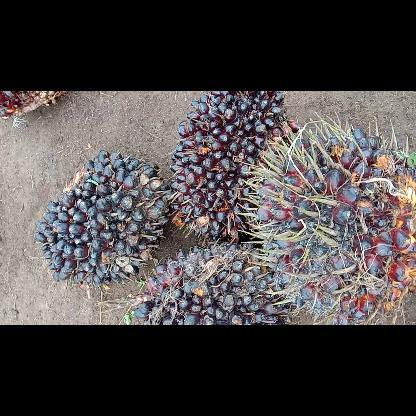TBS mentah: (249, 119, 416, 324), (32, 148, 176, 292), (168, 90, 300, 244), (131, 240, 296, 324)
